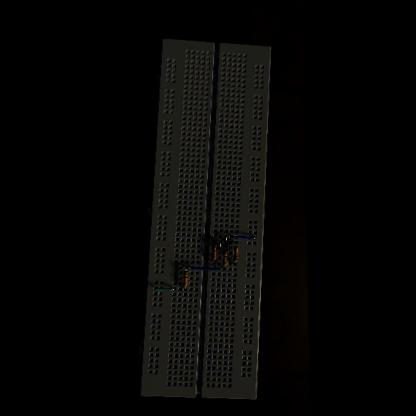breadboard: (133, 35, 277, 399)
resistor: (222, 249, 228, 264), (182, 270, 187, 285), (233, 245, 238, 260), (211, 244, 216, 258)
wire: (191, 265, 219, 269), (154, 285, 174, 289), (230, 234, 255, 237), (218, 239, 220, 245), (224, 234, 226, 240), (234, 260, 236, 263), (213, 258, 214, 262), (214, 239, 215, 243), (224, 244, 225, 248), (235, 240, 236, 244), (185, 286, 186, 288), (223, 264, 224, 266), (186, 264, 186, 269)
